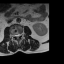CCS_normal: (16, 32, 18, 40)
LFS_normal: (20, 32, 21, 37)
LLS_normal: (18, 32, 20, 38)
RFS_normal: (13, 33, 15, 38)
RLS_normal: (14, 32, 16, 38)
